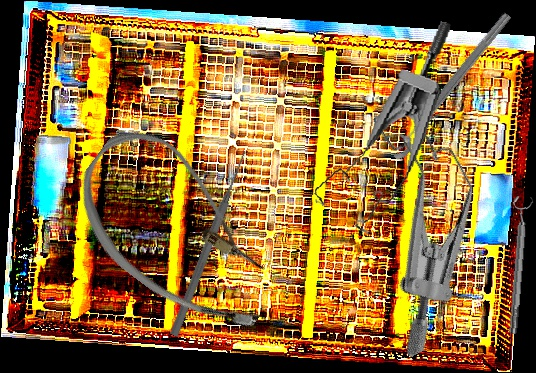Cannula: (51, 113, 311, 352)
Fixation Ring: (378, 2, 516, 163), (501, 195, 535, 335)
Pusher: (168, 149, 251, 338)
Speculum: (297, 83, 535, 359), (309, 4, 453, 243)
